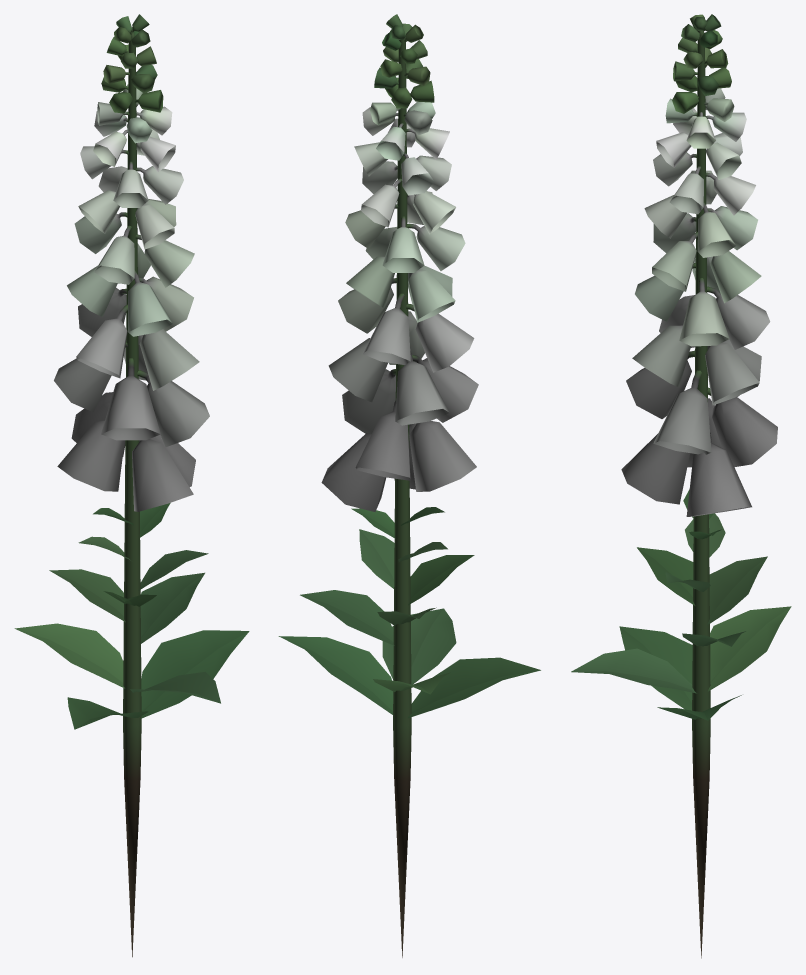
The model's file is plants-flowers-foxglove_v1.glb.
The picture shows the model from 3 angles, left to right: view 1: azimuth 30°, elevation 25°; view 2: azimuth 150°, elevation 25°; view 3: azimuth 270°, elevation 25°; orthographic projection.
Parts seen in each view (by area): view 1: Foxglove_v1; view 2: Foxglove_v1; view 3: Foxglove_v1.
Part boxes in pixels (left/top/right/bottom): Foxglove_v1: left=14, top=14, right=249, bottom=957; Foxglove_v1: left=278, top=14, right=540, bottom=957; Foxglove_v1: left=571, top=14, right=791, bottom=958.
Bounding box in the file's own units: 0.292 × 1.2 × 0.2539.
